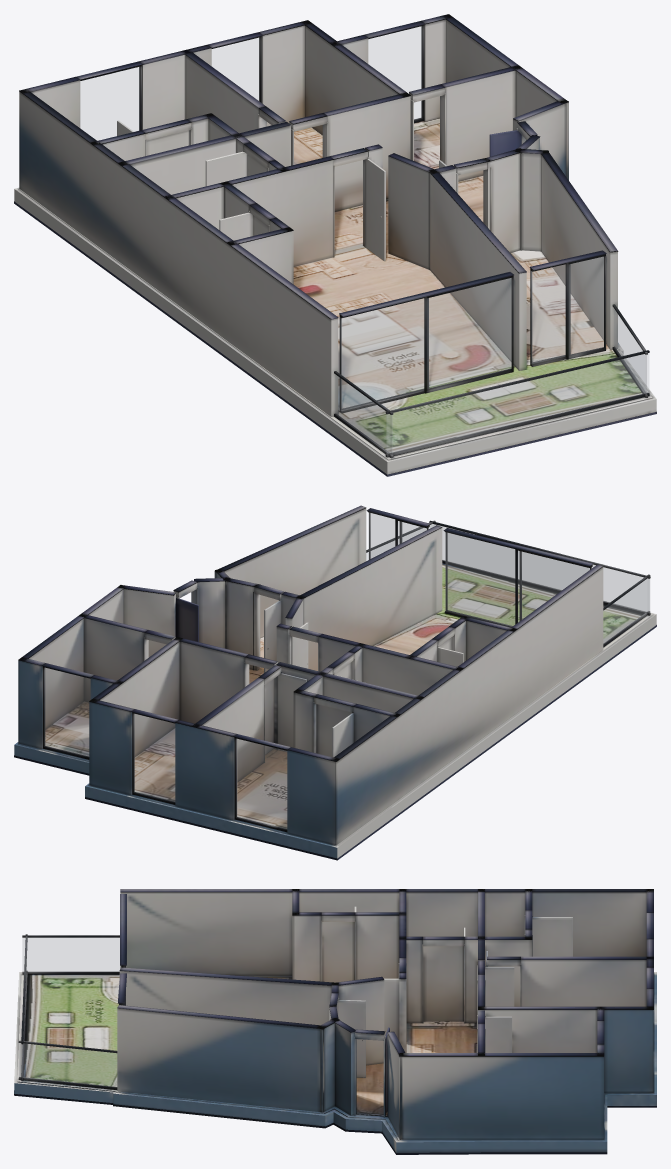
3 views of the same model, one above another, from view 1: azimuth 30°, elevation 25°; view 2: azimuth 150°, elevation 25°; view 3: azimuth 270°, elevation 25° (orthographic). The views are drawn at different scales.
Parts seen in each view (by area): view 1: plan, glass3_m, railg1_m, glass4_m, glass0_m, glass2_m, railg2_m, glass1_m, railg0_m; view 2: plan, glass3_m, railg1_m, glass0_m, glass2_m, glass1_m, railg2_m, glass4_m; view 3: plan, railg0_m, railg2_m.
Part boxes in pixels (bbox=[...]): plan: bbox=[14, 14, 656, 476]; glass3_m: bbox=[341, 278, 511, 409]; railg1_m: bbox=[386, 353, 648, 453]; glass4_m: bbox=[531, 257, 603, 363]; glass0_m: bbox=[80, 67, 139, 140]; glass2_m: bbox=[368, 26, 421, 119]; railg2_m: bbox=[335, 374, 392, 455]; glass1_m: bbox=[212, 38, 259, 100]; railg0_m: bbox=[614, 309, 646, 394]; plan: bbox=[14, 505, 656, 860]; glass3_m: bbox=[445, 532, 589, 626]; railg1_m: bbox=[430, 524, 649, 612]; glass0_m: bbox=[236, 739, 286, 829]; glass2_m: bbox=[44, 668, 90, 756]; glass1_m: bbox=[134, 714, 174, 801]; railg2_m: bbox=[603, 579, 648, 643]; glass4_m: bbox=[368, 513, 426, 559]; plan: bbox=[14, 889, 656, 1154]; railg0_m: bbox=[19, 1043, 116, 1087]; railg2_m: bbox=[22, 938, 119, 971].
Bounding box in the file's own units: 9.89 × 2.62 × 15.77.
2 materials, 1 textured.
